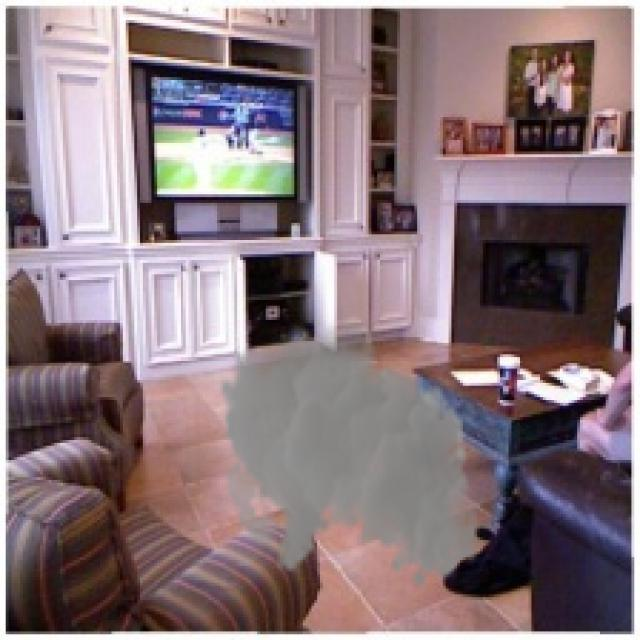smoke: (217, 312, 480, 588)
